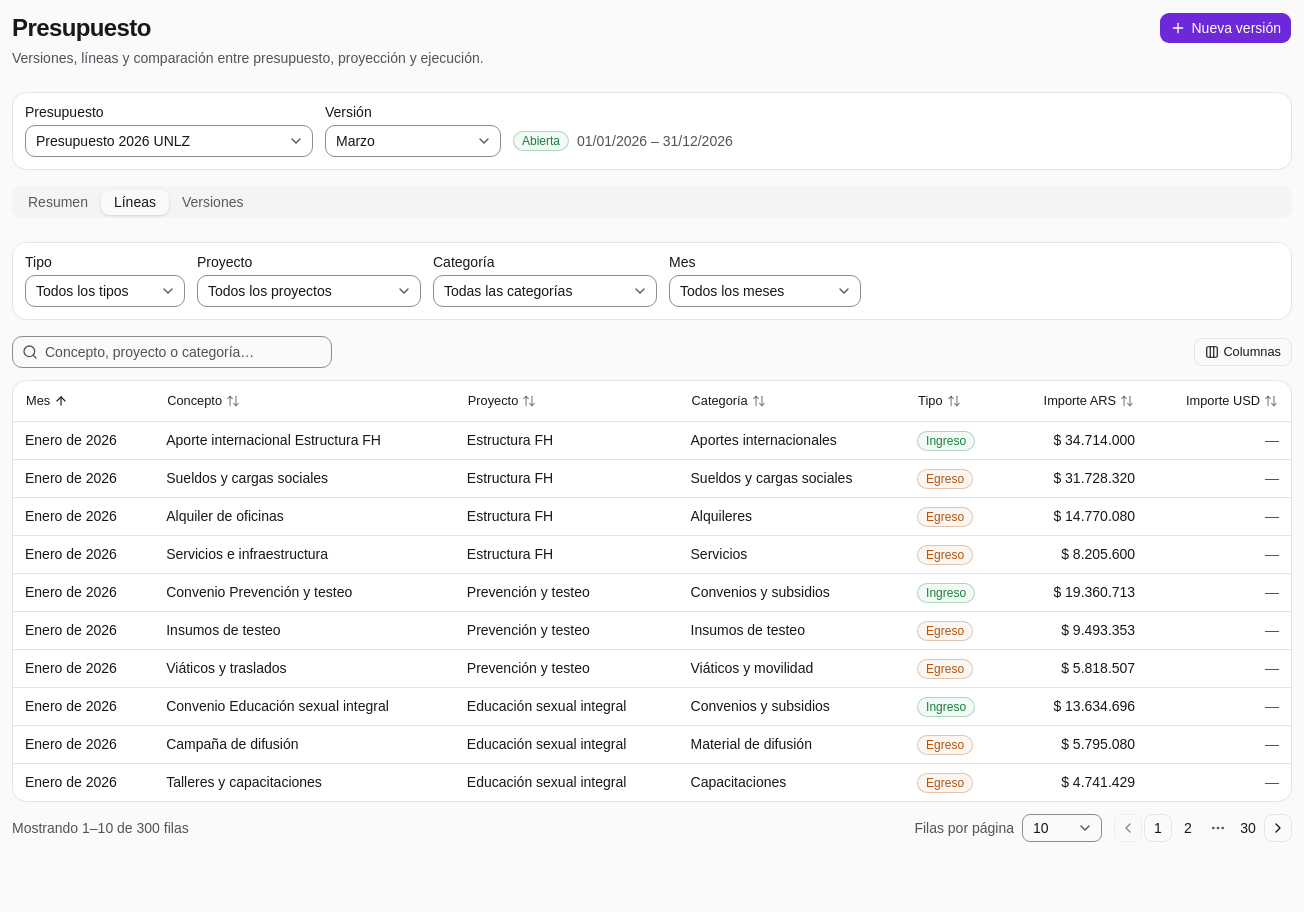
Test case: PresupuestoPage › filtra las líneas por tipo y permite limpiar los filtros
Expected: the text "Sueldos y cargas sociales" is shown, [166, 470, 328, 486]
Click the dropdown labelled "tipo".
click(105, 291)  # box [25, 275, 185, 307]
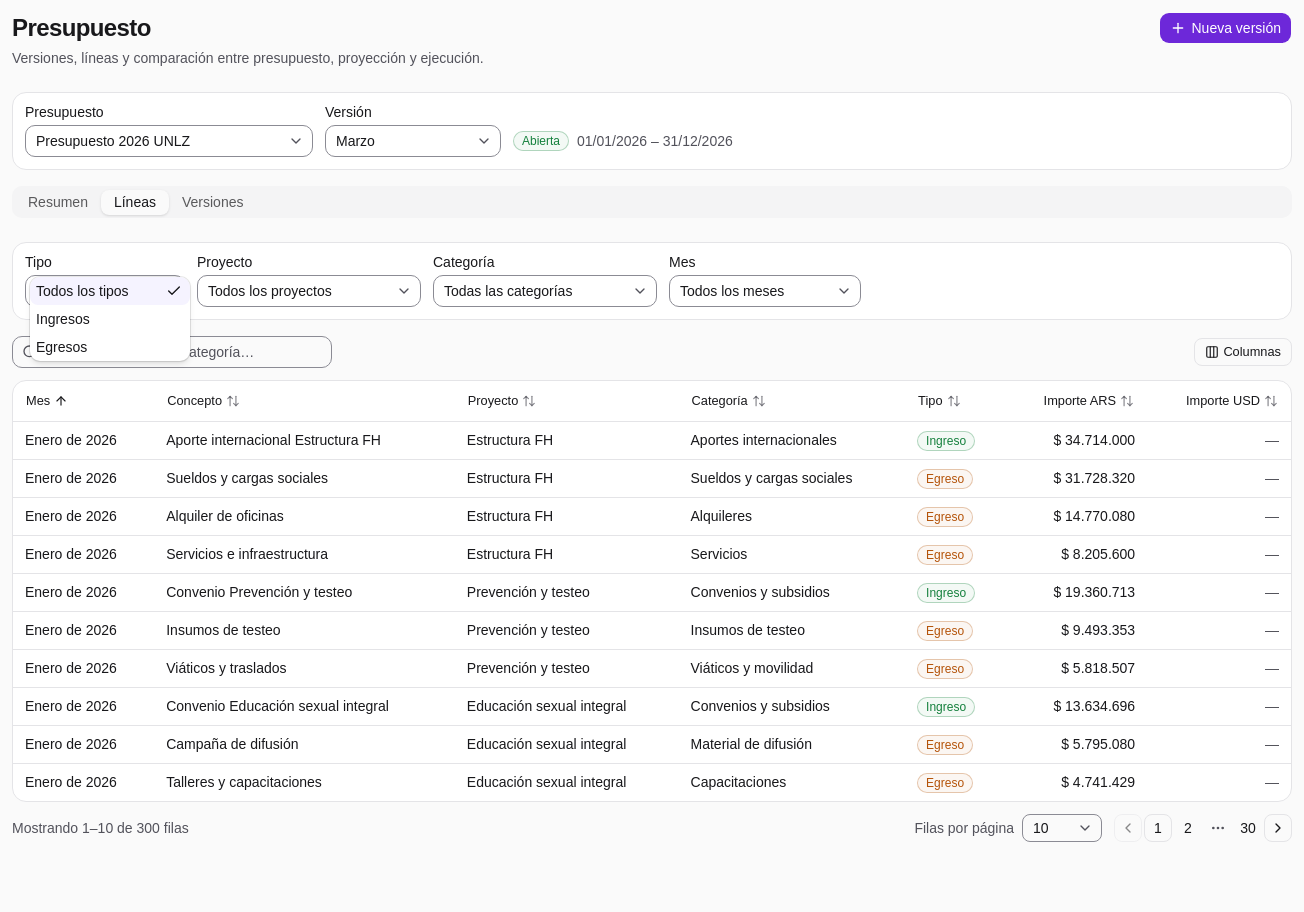
Click the option "Egresos".
click(62, 347)  # box [36, 339, 87, 355]
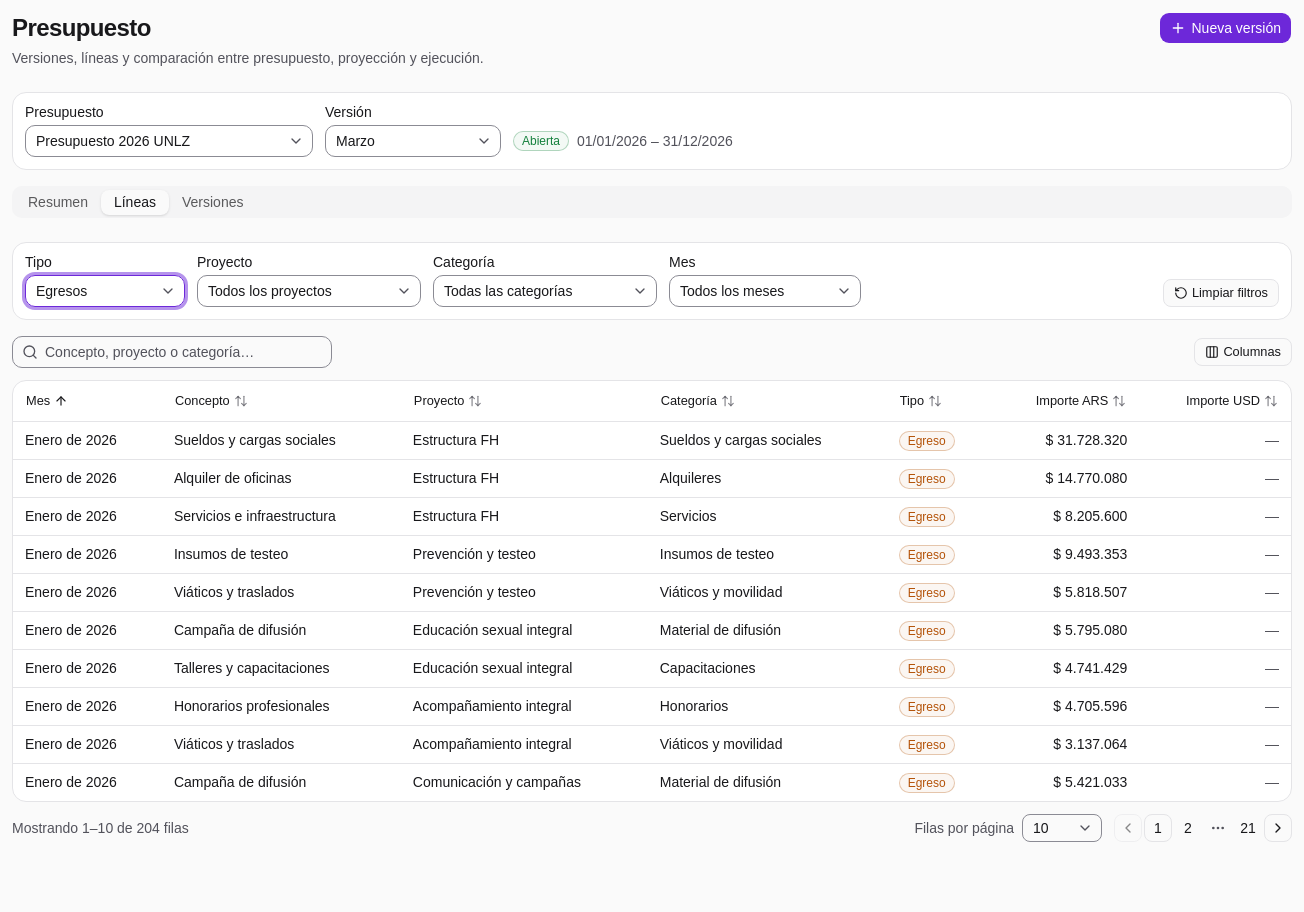
Expected: the icon "Egreso" next to "$ 31.728.320" is shown, [908, 434, 946, 448]
Expected: no icons "Ingreso" are shown
Click the button "Limpiar filtros".
click(1221, 293)  # box [1163, 279, 1279, 307]
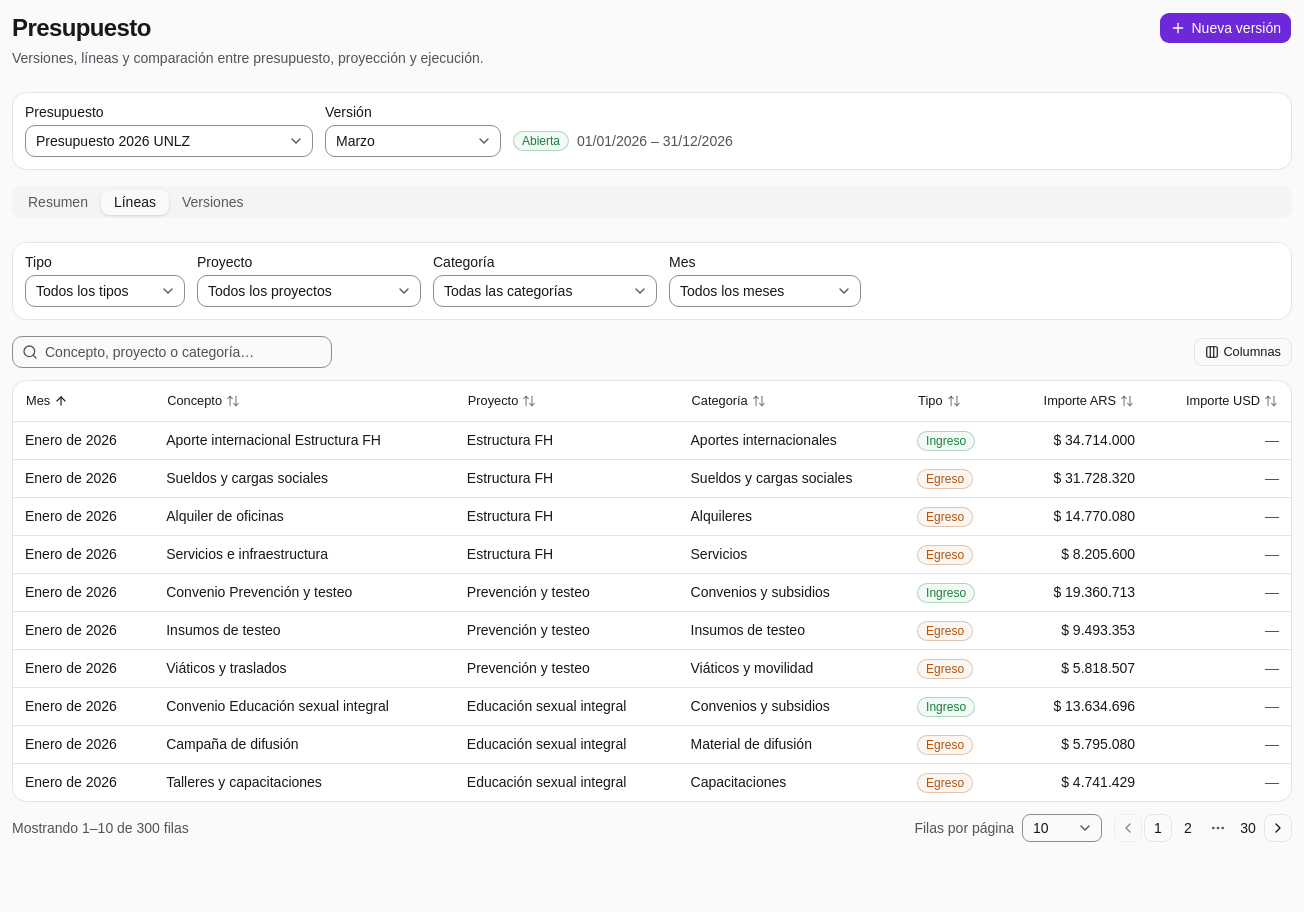
Expected: the dropdown labelled "tipo" shows "Todos los tipos", [25, 275, 185, 307]
Expected: the icon "Ingreso" in the row of "Aporte internacional Estructura FH" is shown, [926, 434, 966, 448]
